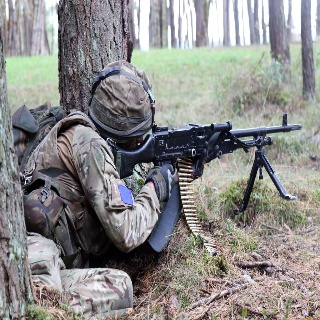rifle: (106, 112, 304, 212)
